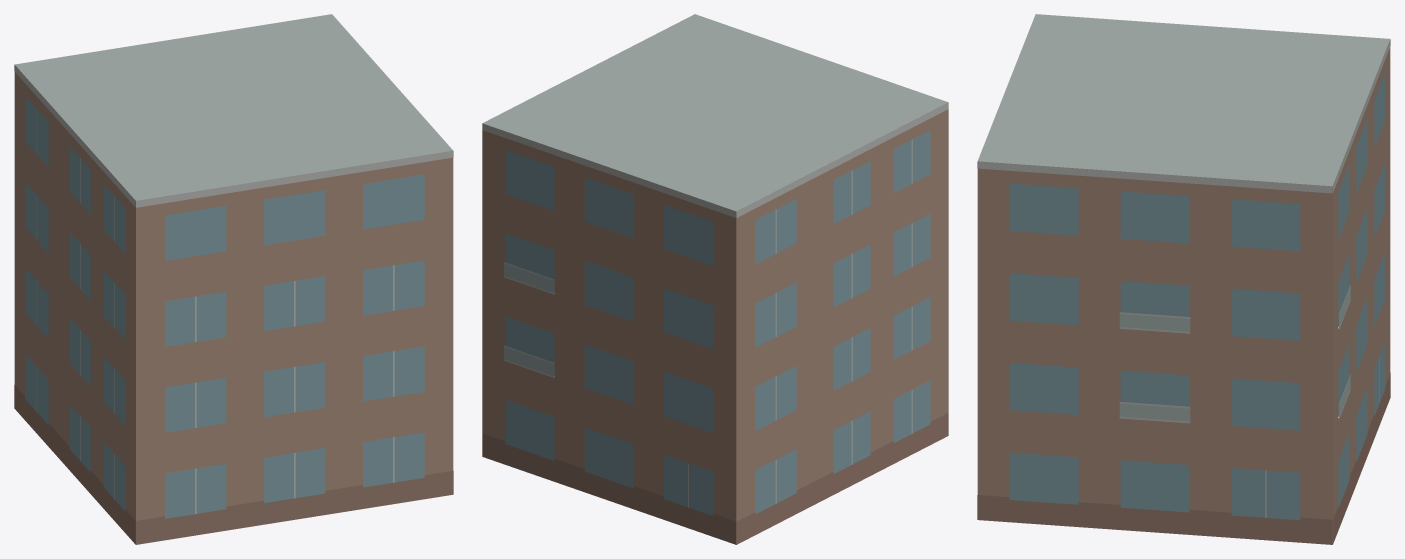
File: residential-9acc9763-2858-4b38-99f5-04834bac0d8d.glb
3 views of the same model, side by side, from view 1: azimuth 30°, elevation 25°; view 2: azimuth 150°, elevation 25°; view 3: azimuth 270°, elevation 25° (orthographic). The views are drawn at different scales.
Parts seen in each view (by area): view 1: residential-9acc9763-2858-4b38-99f5-04834bac0d8d.tmp; view 2: residential-9acc9763-2858-4b38-99f5-04834bac0d8d.tmp; view 3: residential-9acc9763-2858-4b38-99f5-04834bac0d8d.tmp.
Part boxes in pixels (x1,y1,x2,y2): residential-9acc9763-2858-4b38-99f5-04834bac0d8d.tmp: (14,14,453,544); residential-9acc9763-2858-4b38-99f5-04834bac0d8d.tmp: (482,14,948,544); residential-9acc9763-2858-4b38-99f5-04834bac0d8d.tmp: (977,14,1390,544).
Size of the model in its own units: 12.58 by 12.2 by 12.75.
